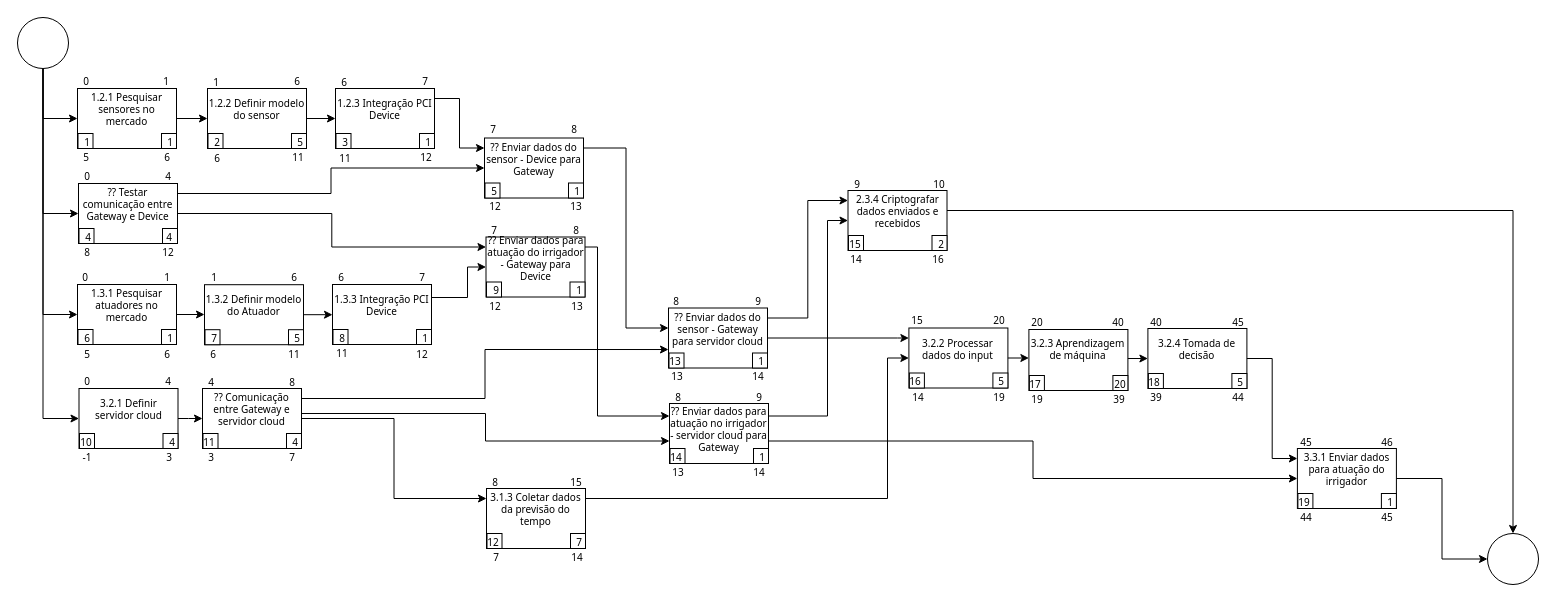
Image size: 1556x602. Some labels were removed from this diagram. Each missing label, with the centre of its shape:
"Fim do Projeto" belongs at pixel 1512 558.
"Início do Projeto" belongs at pixel 42 42.
